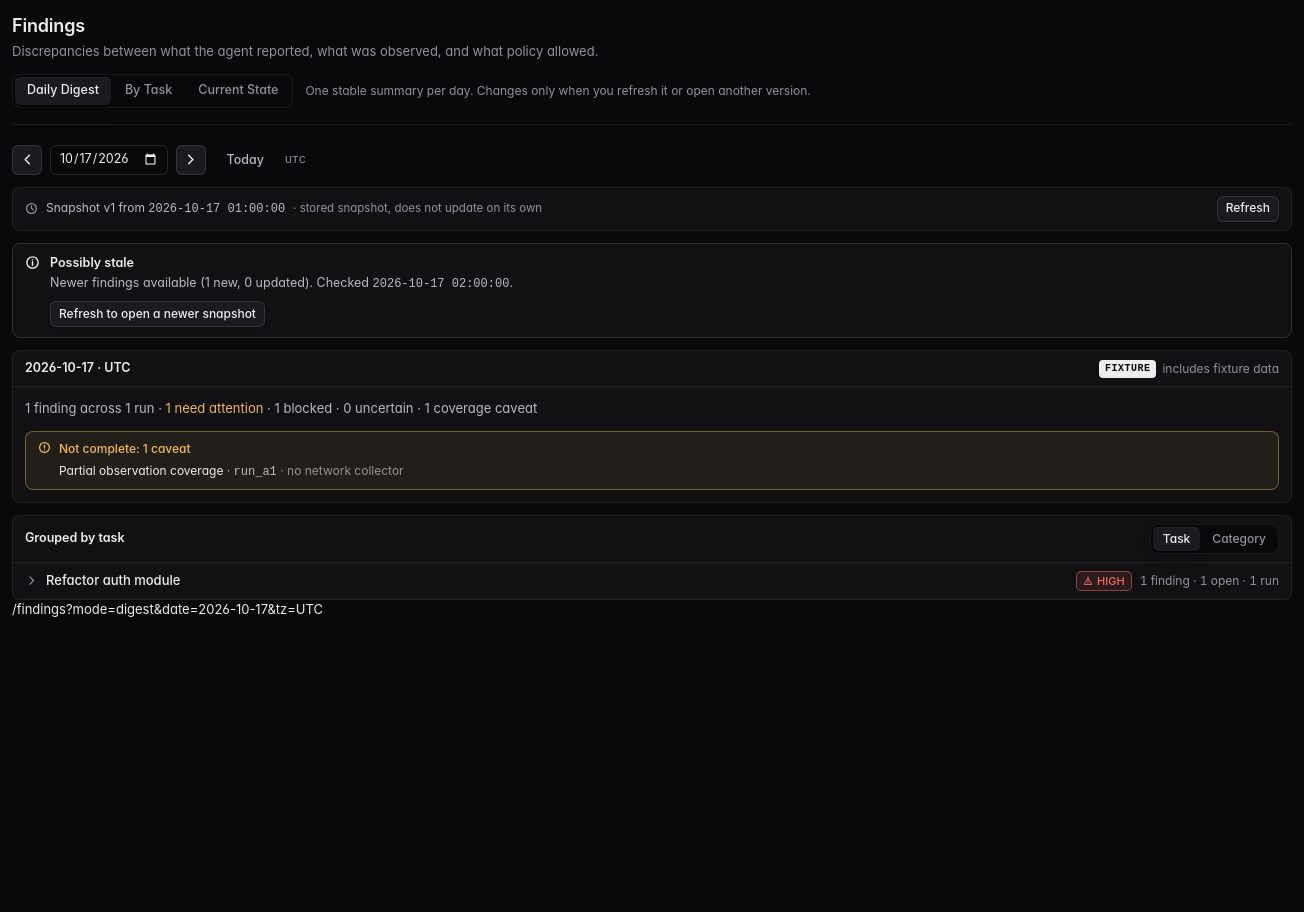
Test: Daily Digest › Refresh posts explicitly and shows the new version; groups expand to findings with evidence links
expect the text "Newer findings available" is shown: met, box [50, 275, 205, 290]
What coordinates should you click on to do the following:
click the button "Refresh"
I would click on:
 (1248, 208)
Its box is [1217, 196, 1279, 222].
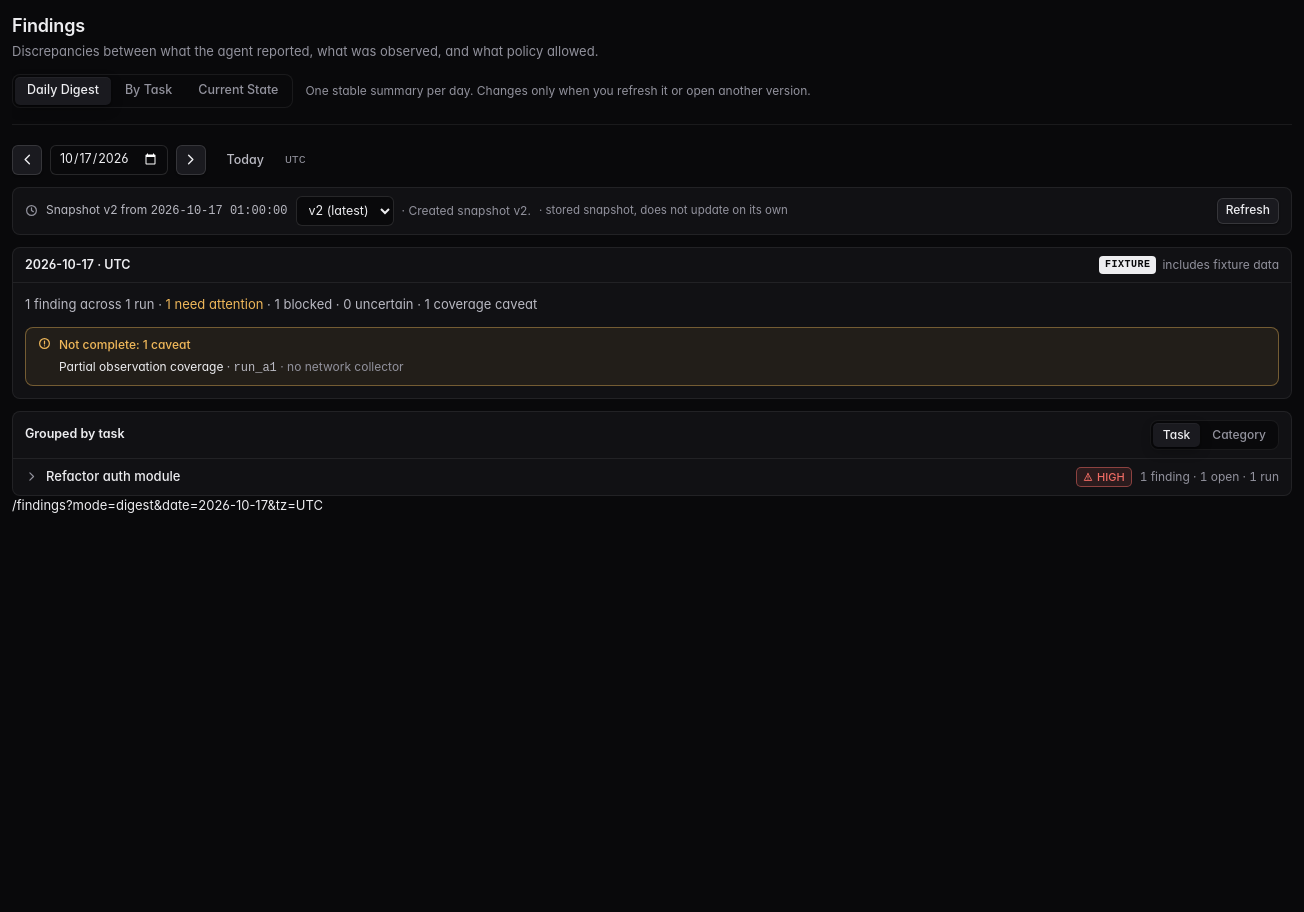
expect the text "· Created snapshot v2." is shown: met, box [402, 202, 531, 220]
expect the text "Snapshot v2 from 2026-10-17 01:00:00" is shown: met, box [46, 201, 288, 220]
expect the text "Newer findings available" is gone: met
What coordinates should you click on to do the following:
click the button "Refactor auth module HIGH 1 finding · 1 open · 1 run"
I would click on:
 (113, 476)
Its box is [13, 459, 1291, 495].
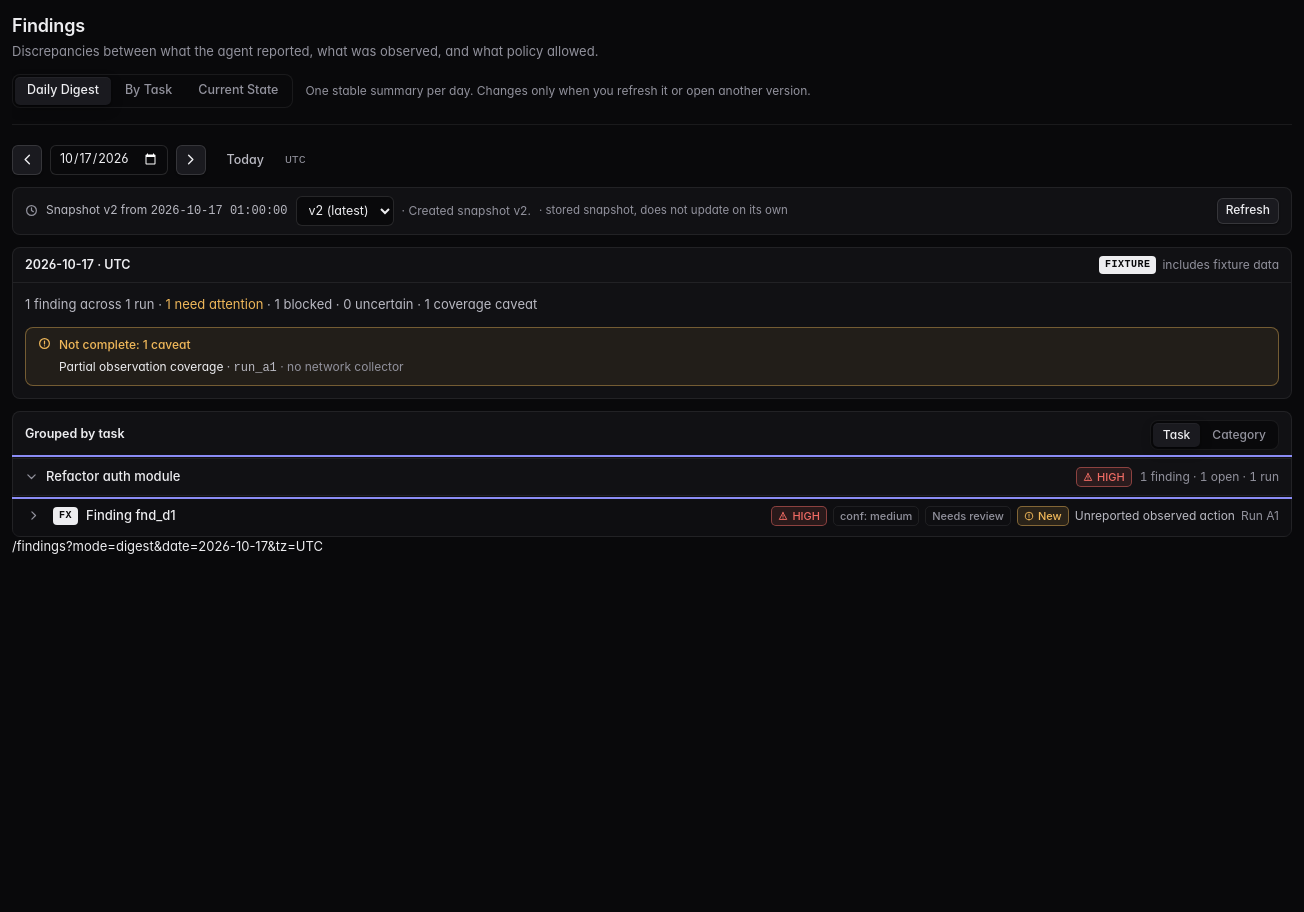
What coordinates should you click on to do the following:
click the button named "Expand Finding fnd_d1"
I would click on:
 (33, 516)
Its box is [21, 504, 45, 528].
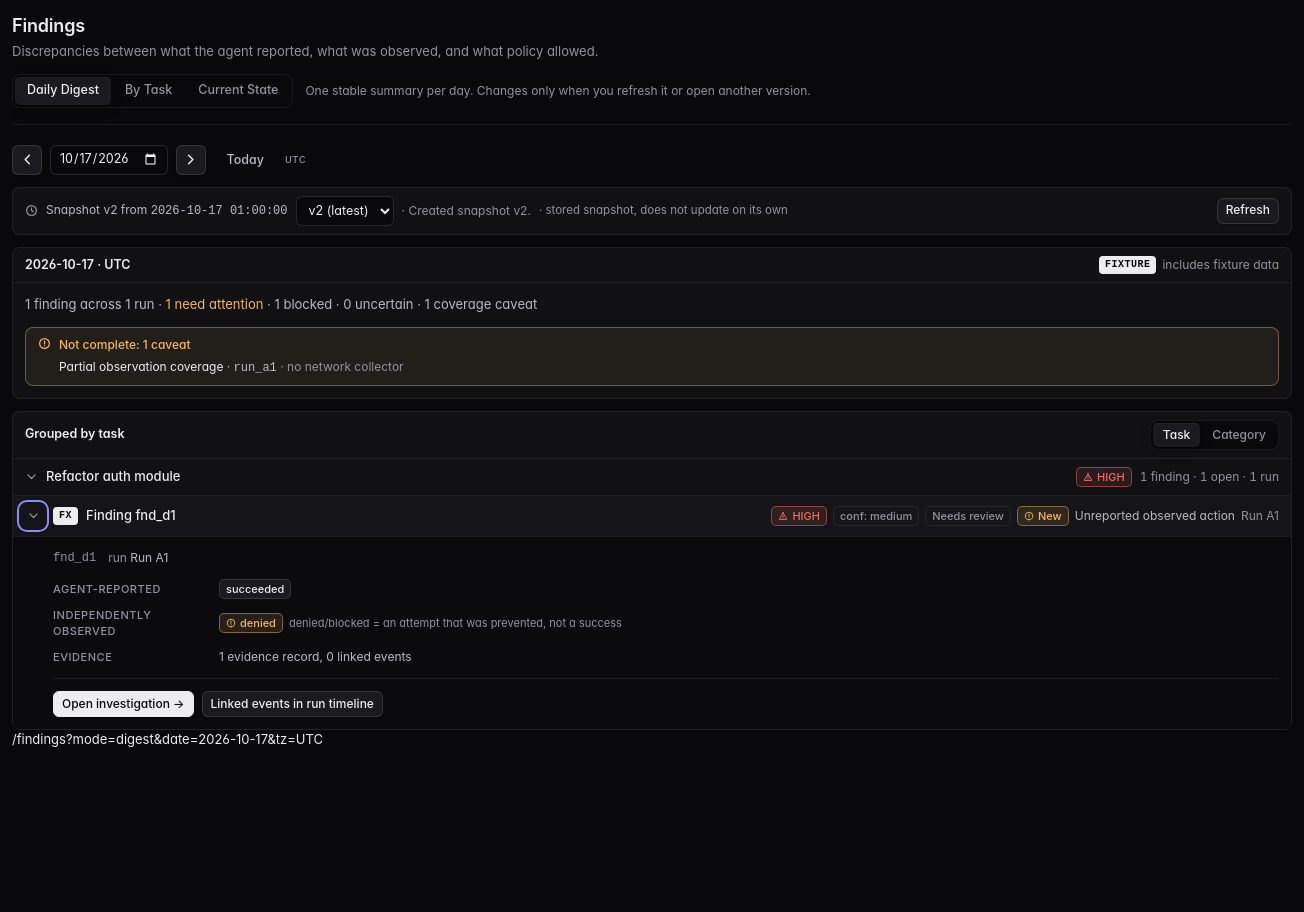
expect the text "succeeded" is shown: met, box [219, 579, 291, 599]
expect the text "denied" is shown: met, box [219, 613, 283, 633]
